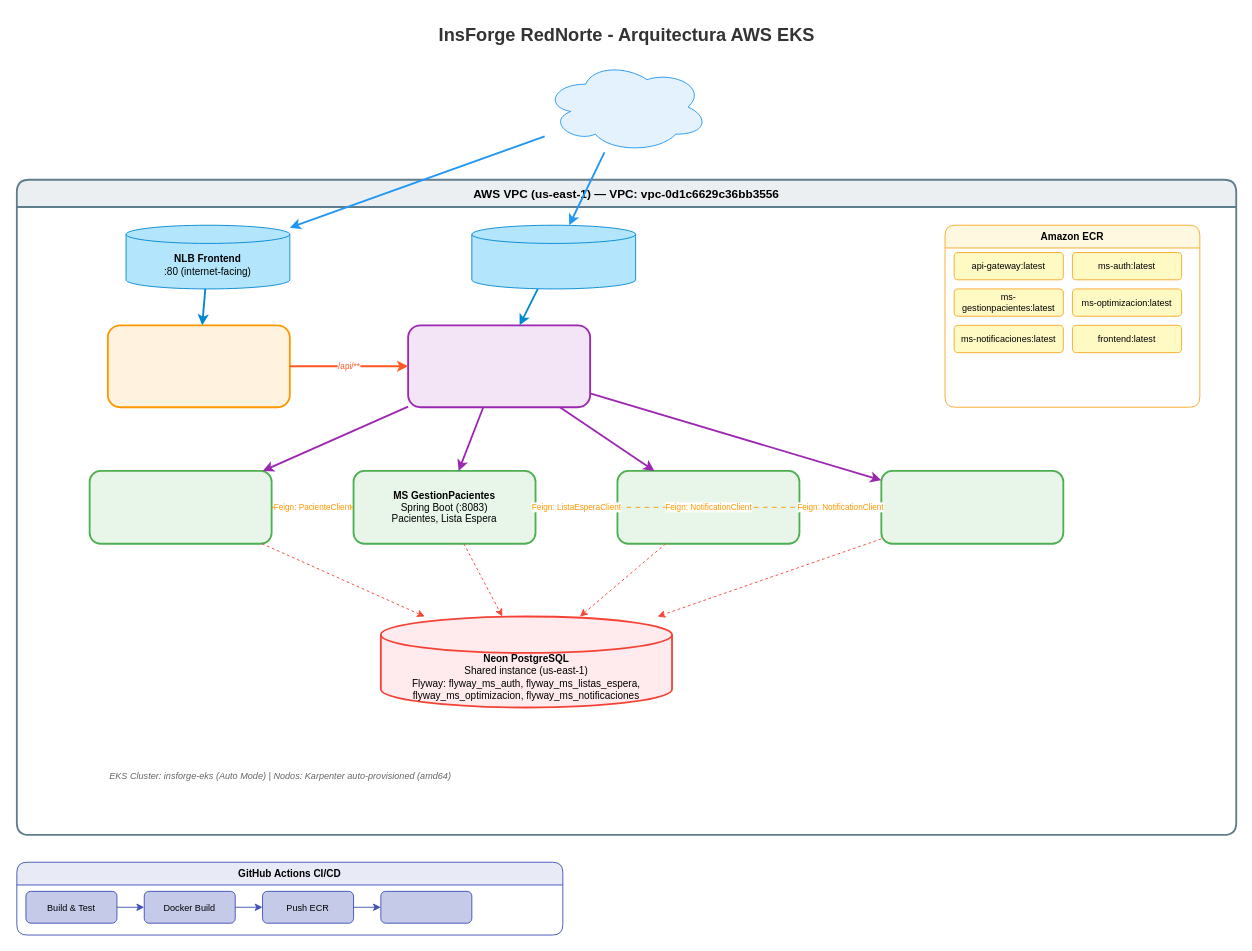
This 1252x951 diagram has some shape labels left out. Here are the shapes that lost their labels. From the top down, the centre of each, then its label:
At point (626, 106): "Internet".
At point (553, 256): "NLB API Gateway :8080 (internet-facing)".
At point (198, 366): "Frontend React 19 + Vite 8 Tailwind CSS v4 Nginx (:80)".
At point (499, 366): "API Gateway Spring Cloud Gateway Netty (:8080) JWT Validation".
At point (180, 507): "MS Auth Spring Boot (:8087) JWT, Registro, Roles".
At point (708, 507): "MS Optimizacion Spring Boot (:8084) Citas, Medicos, Horarios".
At point (972, 507): "MS Notificaciones Spring Boot (:8085) Email (SMTP)".
At point (426, 906): "Deploy EKS".
